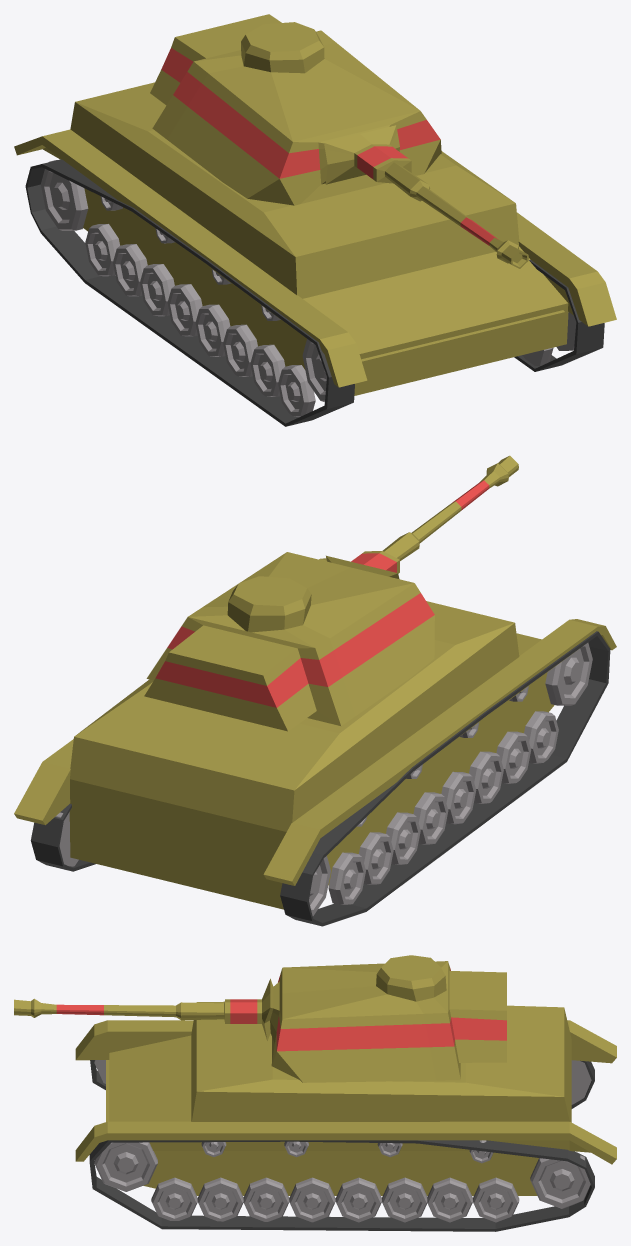
The model's file is Panzer 4 Body.fbx.
The picture shows the model from 3 angles, top to bottom: view 1: azimuth 30°, elevation 25°; view 2: azimuth 150°, elevation 25°; view 3: azimuth 270°, elevation 25°; orthographic projection. The views are drawn at different scales.
Visible parts, largest first — view 1: Body, Head, Tracks; view 2: Body, Head, Tracks; view 3: Body, Head, Tracks.
Boxes of the visible parts, x1,y1,x2,y2 form: Body: (14,82,616,395); Head: (150,14,528,268); Tracks: (25,159,604,426); Body: (14,558,616,909); Head: (144,455,518,731); Tracks: (30,631,610,926); Body: (75,1001,616,1195); Head: (14,955,506,1082); Tracks: (89,1060,594,1231).
Size of the model in its own units: 439 by 380 by 983.
